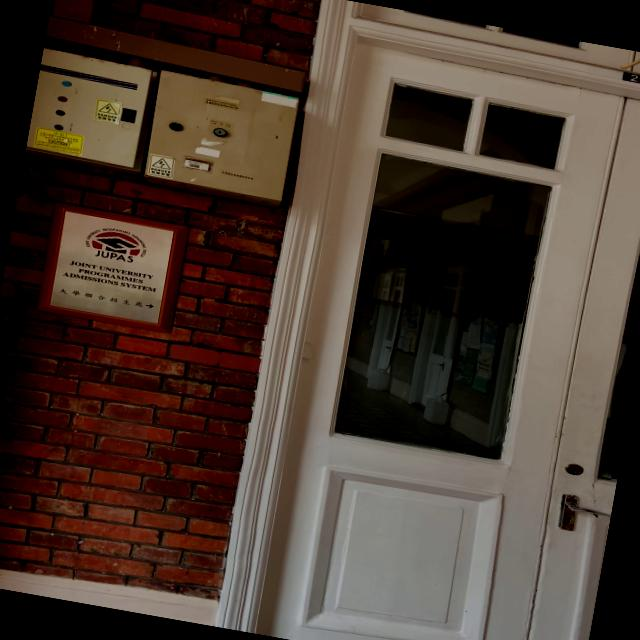room248: (618, 67, 640, 91)
